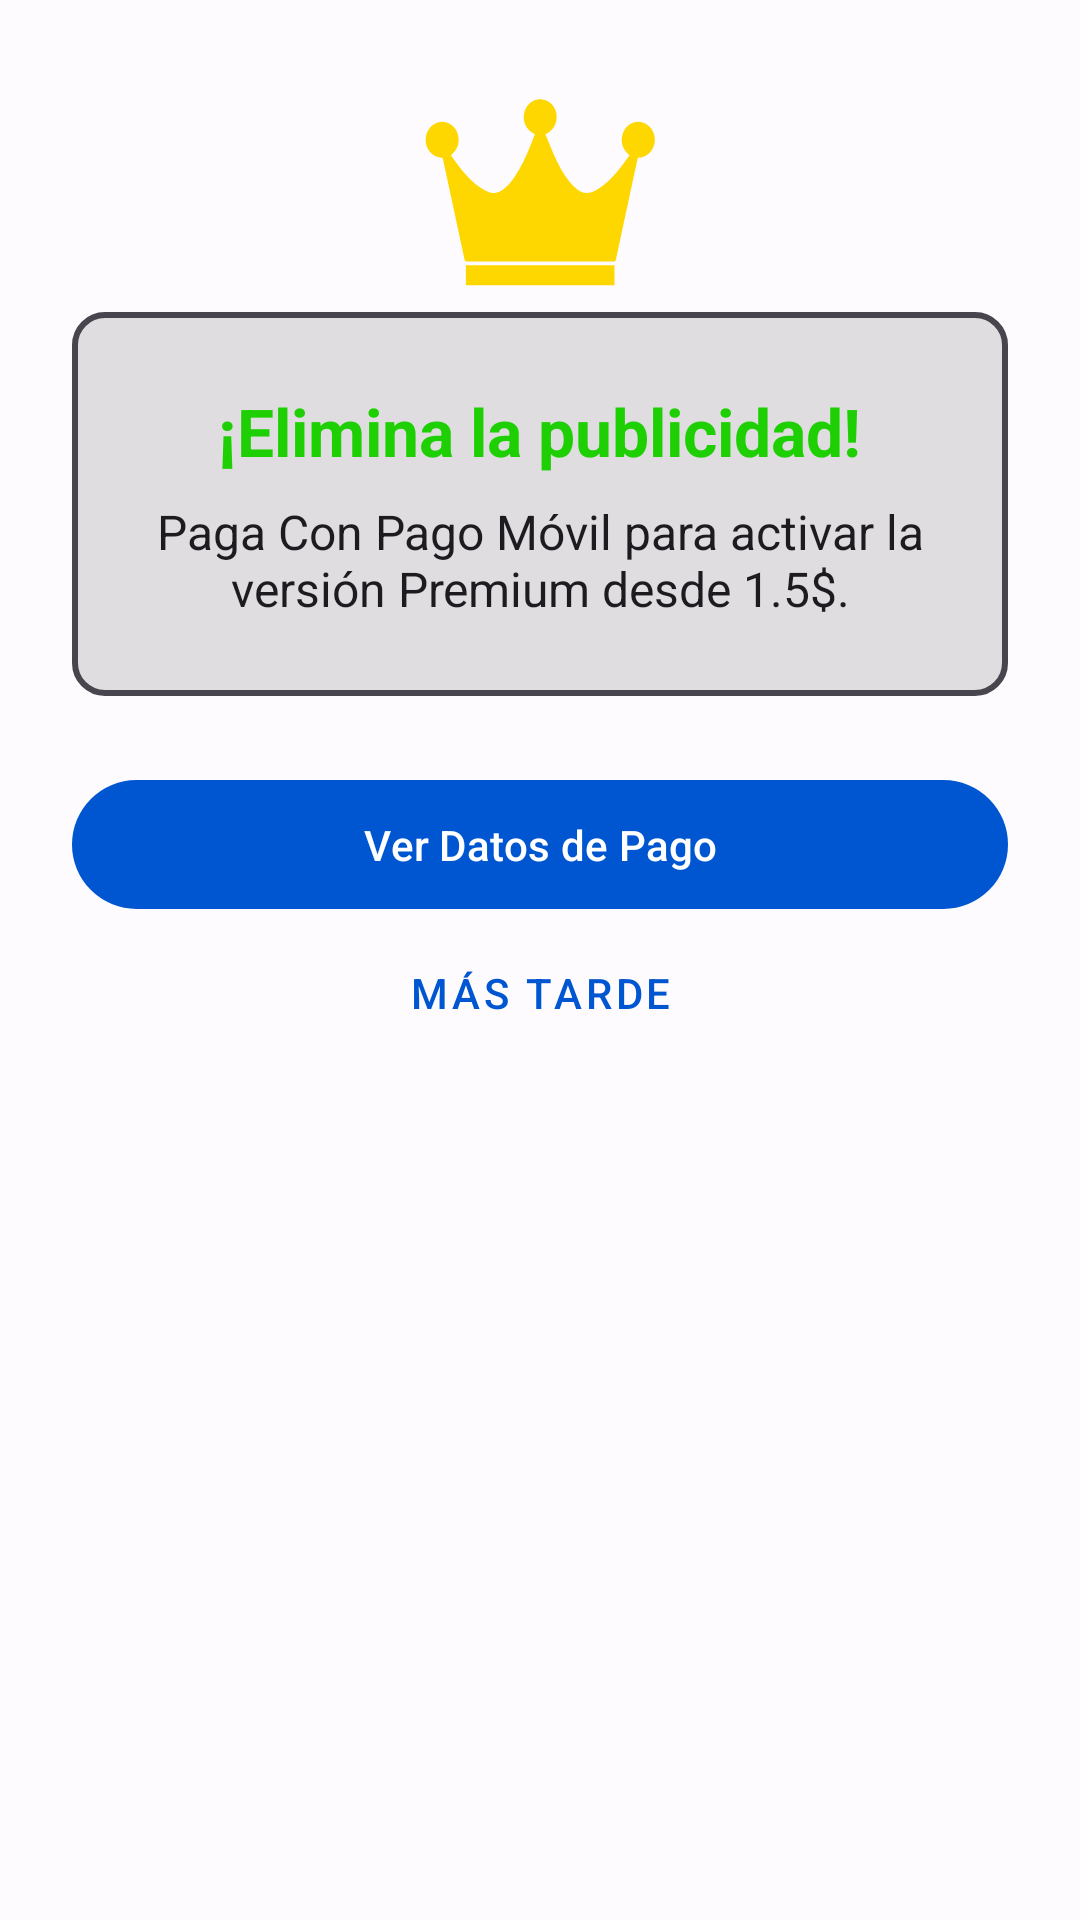

Where icons sit on this 1080px×1920px app screen, as [x1,y1,x2,y2]:
premiun: [425,99,655,286]
